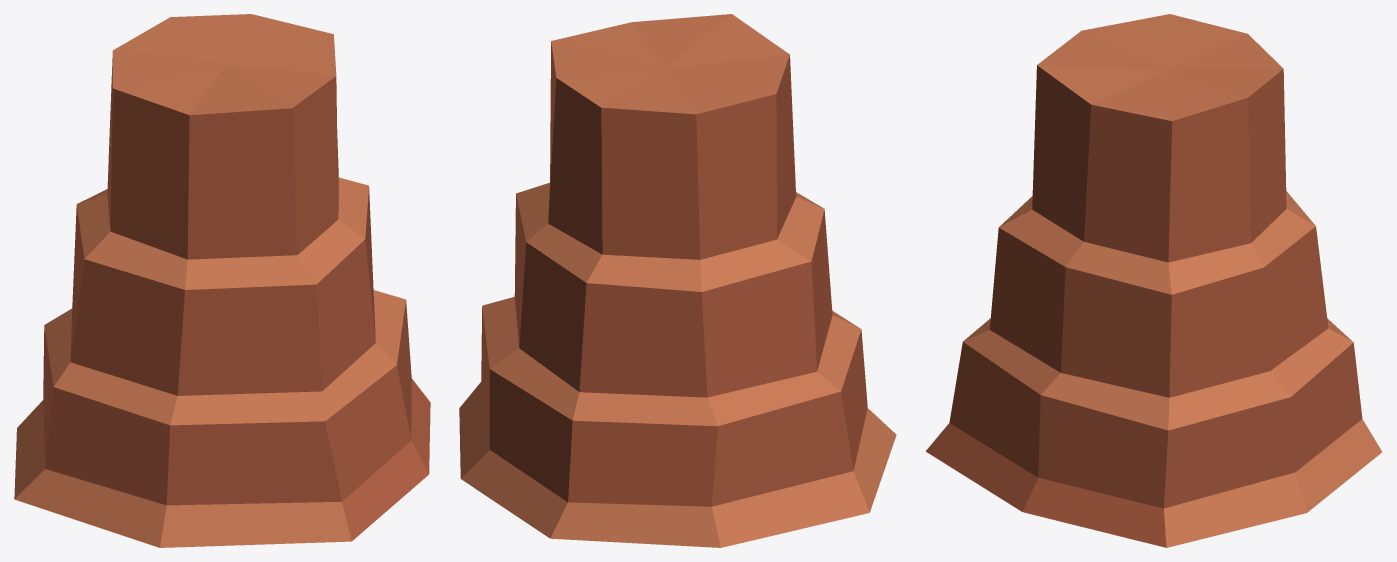
The model's file is RedButte.fbx.
The picture shows the model from 3 angles, left to right: view 1: azimuth 30°, elevation 25°; view 2: azimuth 150°, elevation 25°; view 3: azimuth 270°, elevation 25°; orthographic projection. The views are drawn at different scales.
Parts seen in each view (by area): view 1: RedButte; view 2: RedButte; view 3: RedButte.
Boxes of the visible parts, x1=… form: RedButte: x1=14, y1=14, x2=430, y2=547; RedButte: x1=459, y1=14, x2=896, y2=547; RedButte: x1=925, y1=14, x2=1381, y2=547.
Size of the model in its own units: 498 by 454 by 488.
